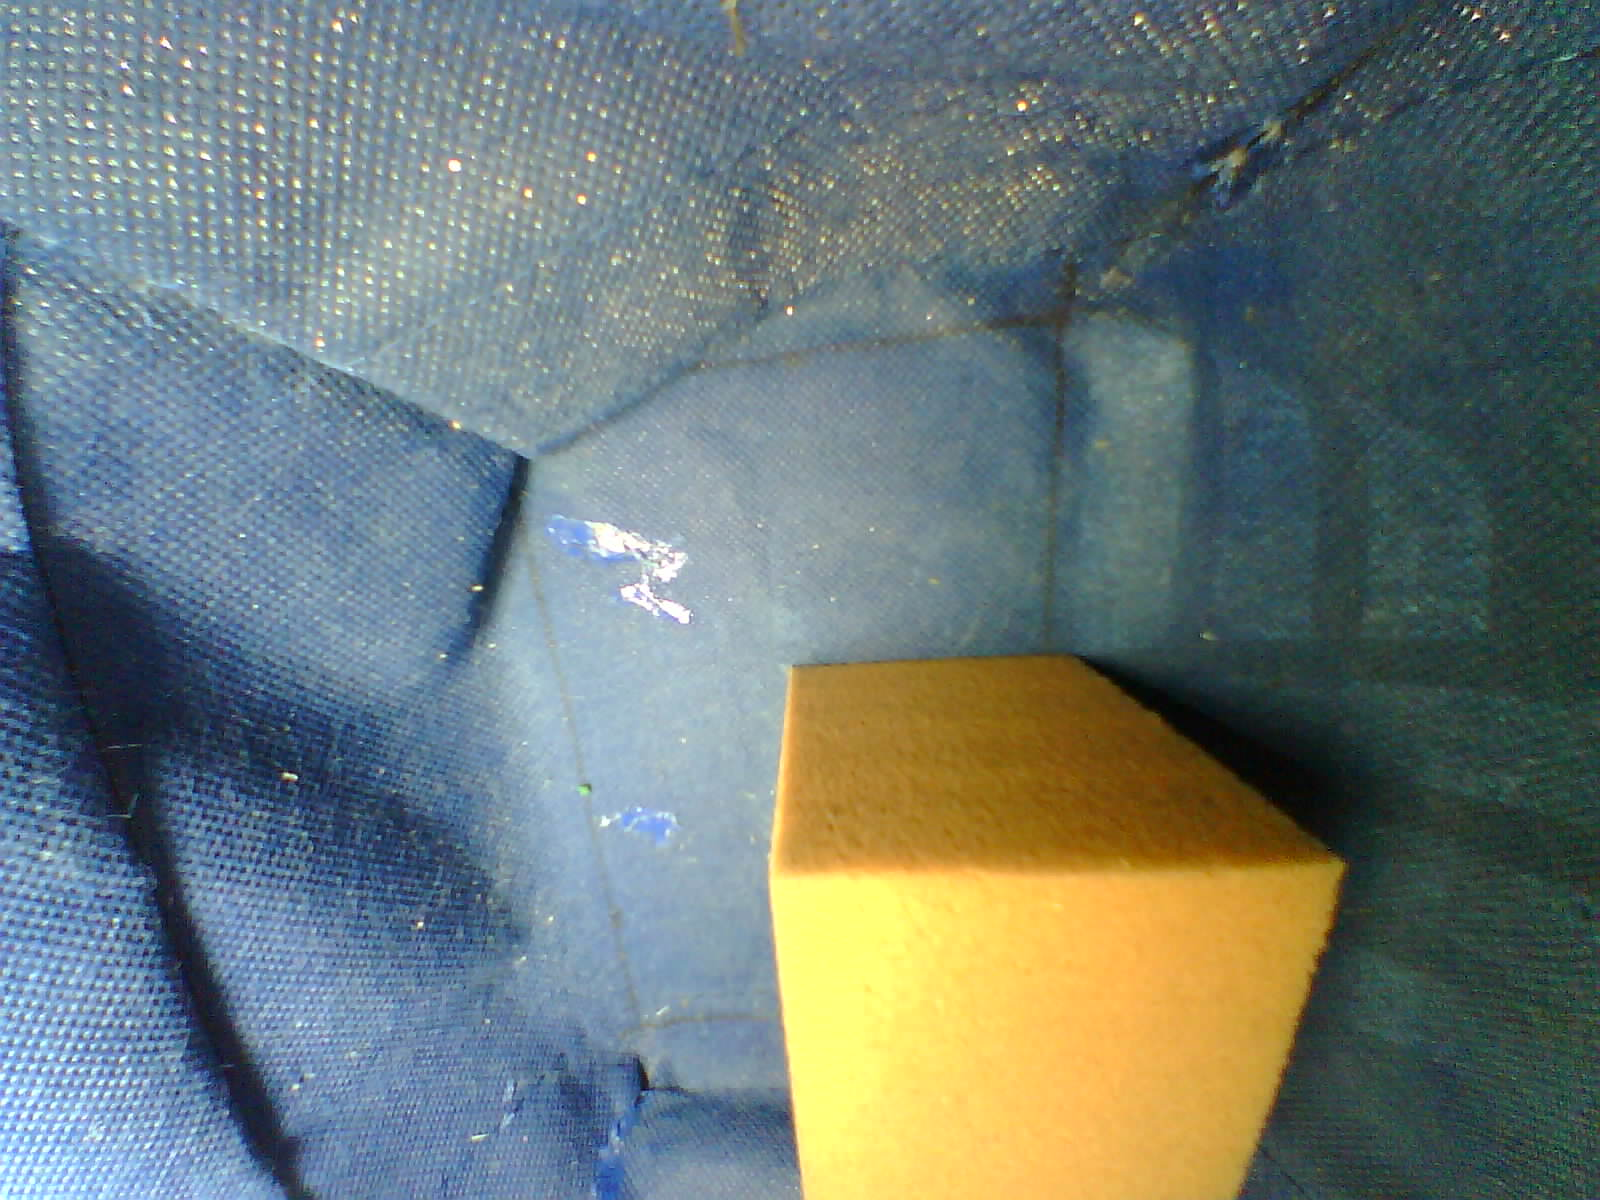cube-soft: (743, 614, 1357, 1200)
